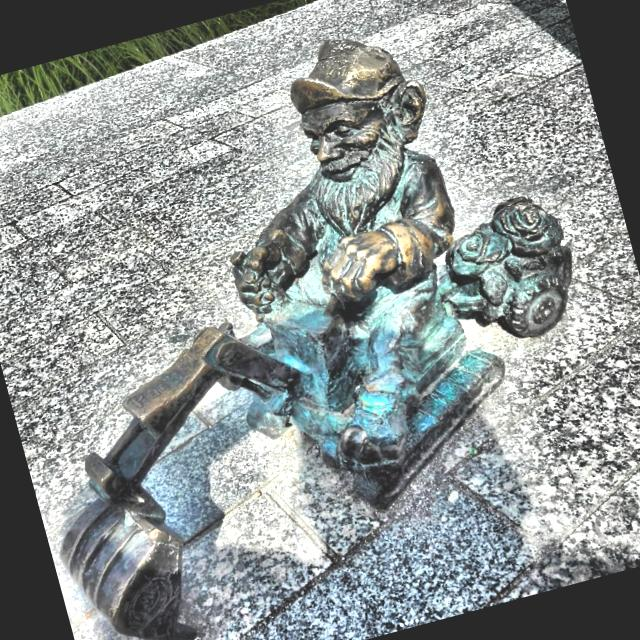Koparkus: (60, 39, 571, 640)
